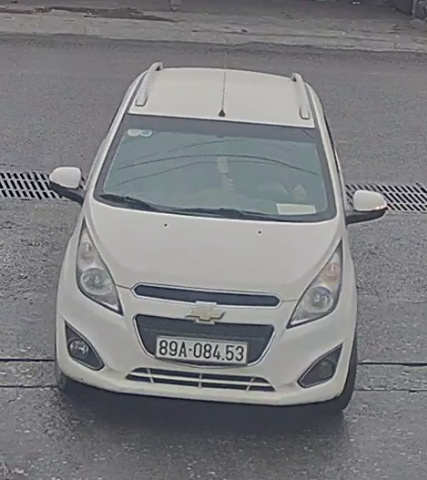vehicle plate: (154, 333, 248, 369)
